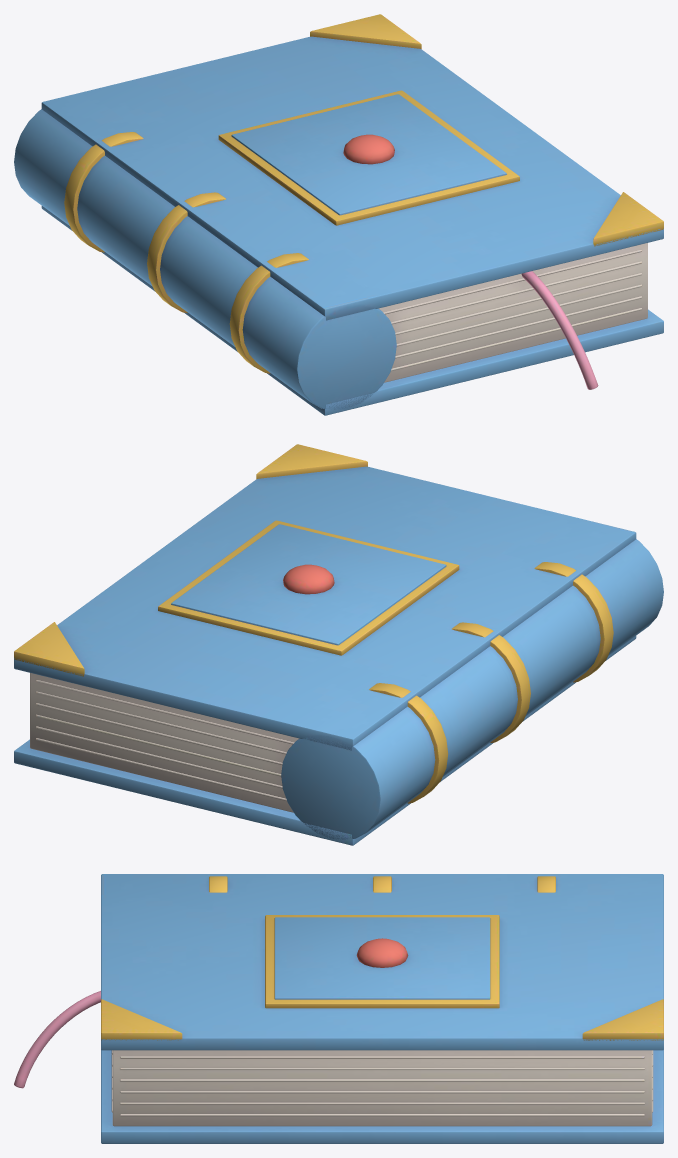
File: hardcover-book.glb
The picture shows the model from 3 angles, top to bottom: view 1: azimuth 30°, elevation 25°; view 2: azimuth 150°, elevation 25°; view 3: azimuth 270°, elevation 25°; orthographic projection.
Visible parts, largest first — view 1: book_body; view 2: book_body; view 3: book_body.
Part boxes in pixels (x1,y1,x2,y2): book_body: (14,14,663,415); book_body: (14,444,663,845); book_body: (14,874,663,1143).
Bounding box in the file's own units: 0.1815 × 0.0616 × 0.277.
Materials: 1 (1 with a texture image).
